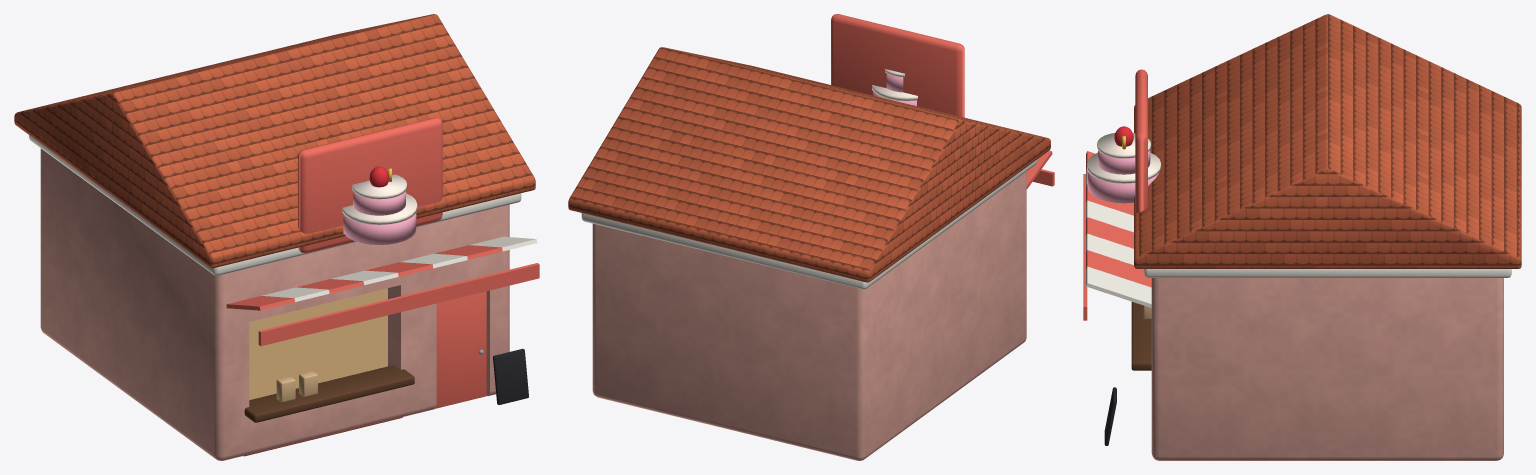
The model's file is restaurant_cake.gltf.
3 views of the same model, side by side, from view 1: azimuth 30°, elevation 25°; view 2: azimuth 150°, elevation 25°; view 3: azimuth 270°, elevation 25° (orthographic). The views are drawn at different scales.
Visible parts, largest first — view 1: restaurant_cake_mesh, INT_door_restaurant_cake, INT_counter_cake; view 2: restaurant_cake_mesh; view 3: restaurant_cake_mesh, INT_counter_cake.
Boxes of the visible parts, x1,y1,x2,y2 form: restaurant_cake_mesh: (14, 14, 539, 460); INT_door_restaurant_cake: (435, 291, 486, 408); INT_counter_cake: (244, 365, 414, 422); restaurant_cake_mesh: (568, 14, 1054, 460); restaurant_cake_mesh: (1083, 14, 1521, 460); INT_counter_cake: (1131, 302, 1151, 370).
Size of what is drawn, in the model's own units: 7.3 by 6.64 by 8.71.
15 materials, 2 textured.
